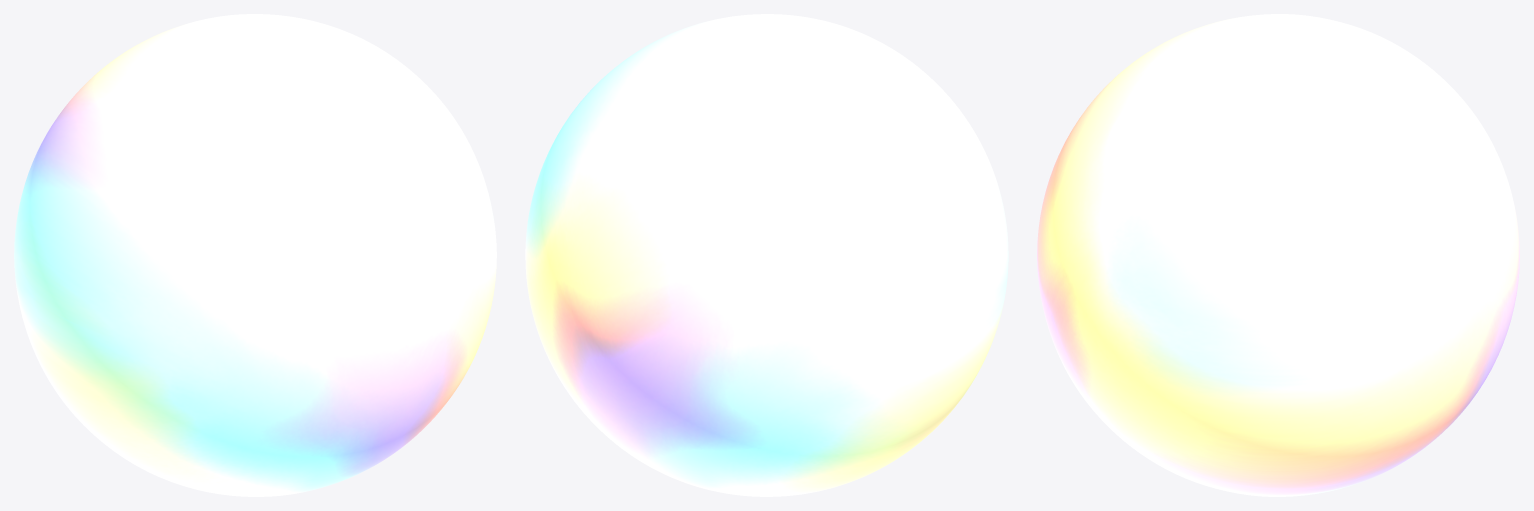
Rendered from orb.glb.
3 renders of one model, left to right at view 1: azimuth 30°, elevation 25°; view 2: azimuth 150°, elevation 25°; view 3: azimuth 270°, elevation 25°, orthographic.
Visible parts, largest first — view 1: LC_test; view 2: LC_test; view 3: LC_test.
Boxes of the visible parts, <box> form: LC_test: <box>14,14,496,496</box>; LC_test: <box>525,14,1008,496</box>; LC_test: <box>1037,14,1519,496</box>.
Size of the model in its own units: 1.23 by 1.24 by 1.24.
